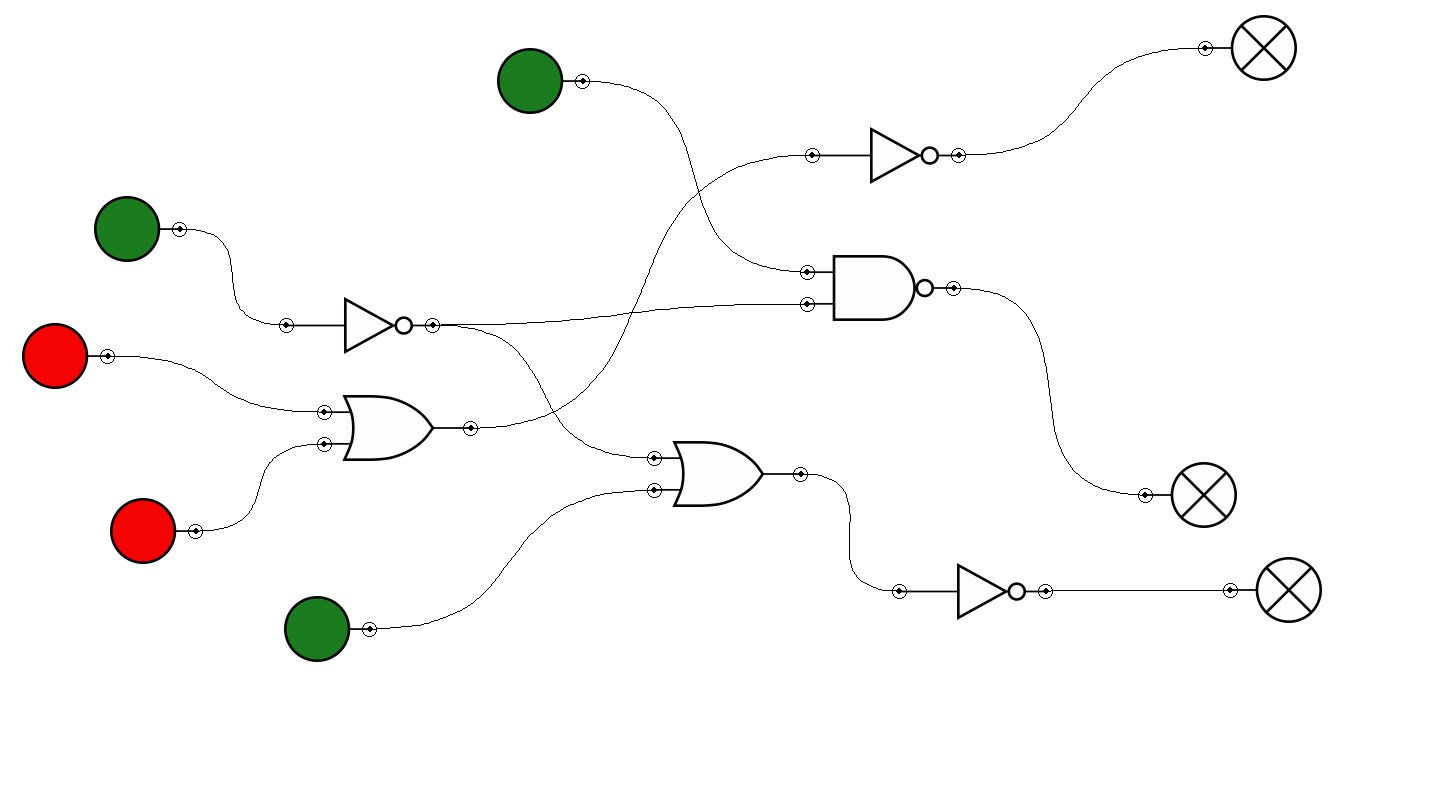bulb: (1223, 557, 1322, 623), (1198, 15, 1297, 81), (1138, 462, 1237, 528)
nand: (800, 255, 961, 321)
not: (892, 563, 1053, 620), (805, 127, 966, 184), (279, 297, 440, 354)
or: (647, 441, 808, 507), (317, 395, 478, 461)
switch_False: (22, 323, 115, 389), (110, 498, 203, 564)
switch_True: (94, 196, 187, 262), (284, 596, 377, 662), (497, 48, 590, 114)
